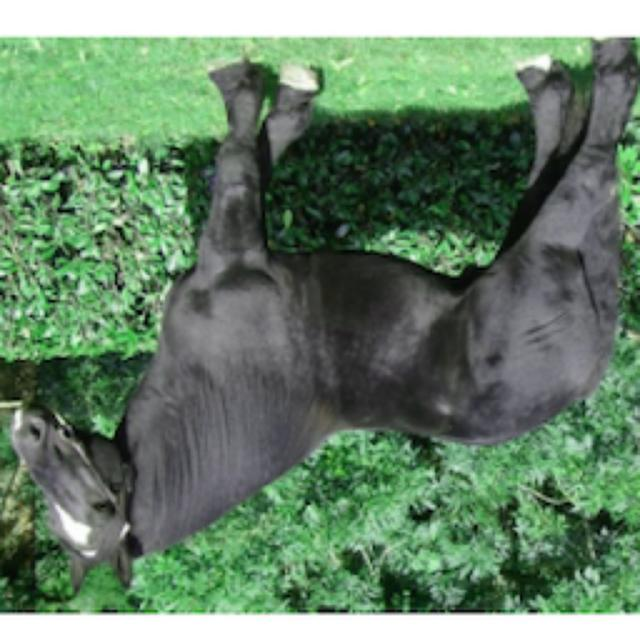Horse: (0, 42, 638, 600)
